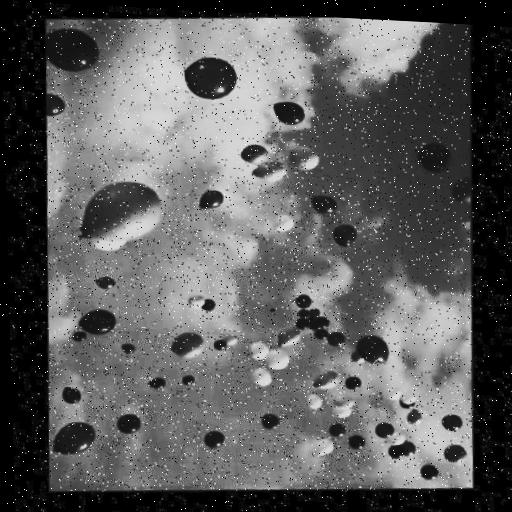balloon: (77, 179, 165, 247), (44, 27, 101, 75), (184, 57, 239, 104), (54, 421, 98, 456), (417, 146, 453, 181), (252, 160, 287, 188), (419, 149, 451, 179), (172, 334, 207, 360), (81, 311, 117, 336), (363, 339, 393, 368), (274, 104, 305, 130), (289, 151, 321, 175), (200, 190, 224, 217), (450, 183, 473, 210), (313, 372, 342, 393), (452, 183, 474, 210), (240, 149, 267, 169), (267, 353, 290, 376), (335, 229, 357, 253), (446, 451, 470, 471), (46, 94, 65, 117), (273, 218, 294, 237), (121, 416, 141, 435), (443, 420, 463, 439), (255, 371, 272, 393), (317, 442, 334, 464), (277, 334, 300, 350), (315, 199, 334, 218), (264, 416, 283, 435), (205, 434, 226, 451), (189, 295, 208, 313), (377, 427, 395, 446), (458, 226, 473, 248), (310, 320, 331, 334), (412, 410, 423, 434), (253, 346, 269, 362), (348, 381, 364, 396), (421, 472, 438, 486), (388, 437, 405, 451), (299, 297, 314, 312), (403, 398, 417, 414), (339, 403, 358, 414), (307, 403, 325, 414), (152, 378, 166, 392), (204, 301, 217, 316), (331, 338, 344, 353), (330, 428, 345, 441), (99, 278, 115, 290), (227, 333, 239, 349), (68, 389, 81, 403), (388, 393, 401, 407), (393, 449, 403, 466), (124, 345, 137, 358), (214, 344, 228, 356), (354, 440, 365, 455), (336, 411, 351, 422), (406, 449, 418, 462), (295, 323, 310, 333), (185, 376, 196, 389), (319, 334, 330, 347), (351, 360, 366, 368), (75, 333, 84, 346), (313, 311, 322, 321), (300, 314, 309, 323)
